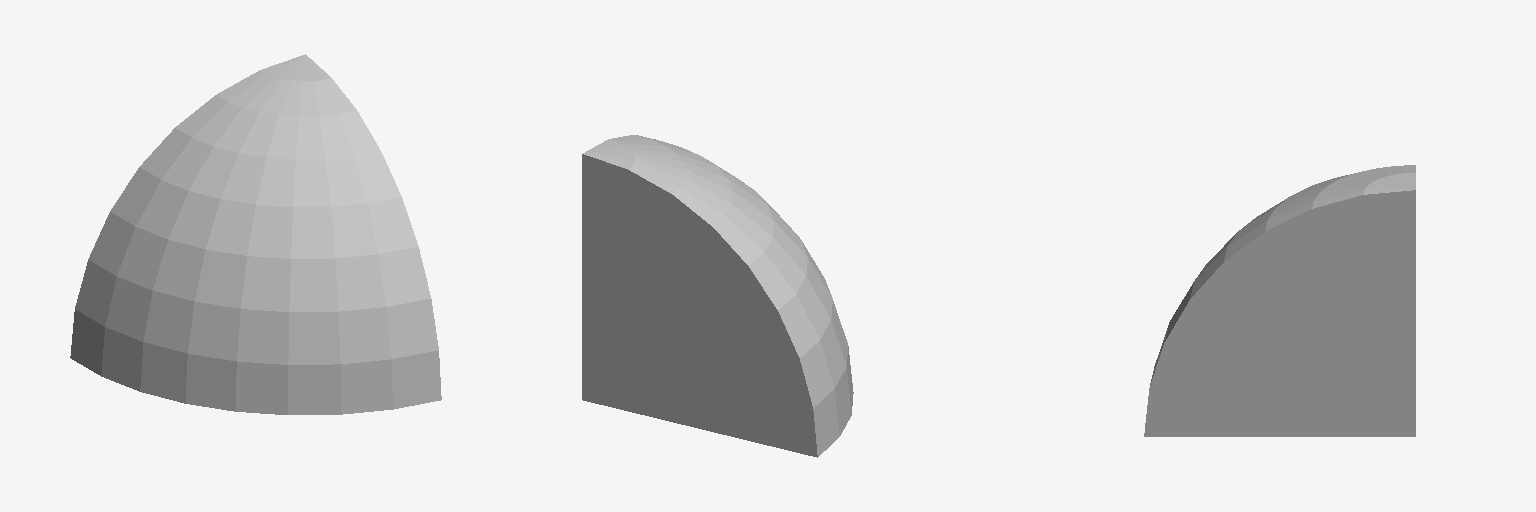
The model's file is oct.obj.
3 renders of one model, left to right at view 1: azimuth 30°, elevation 25°; view 2: azimuth 150°, elevation 25°; view 3: azimuth 270°, elevation 25°, orthographic.
Size of the model in its own units: 2 by 2 by 2.